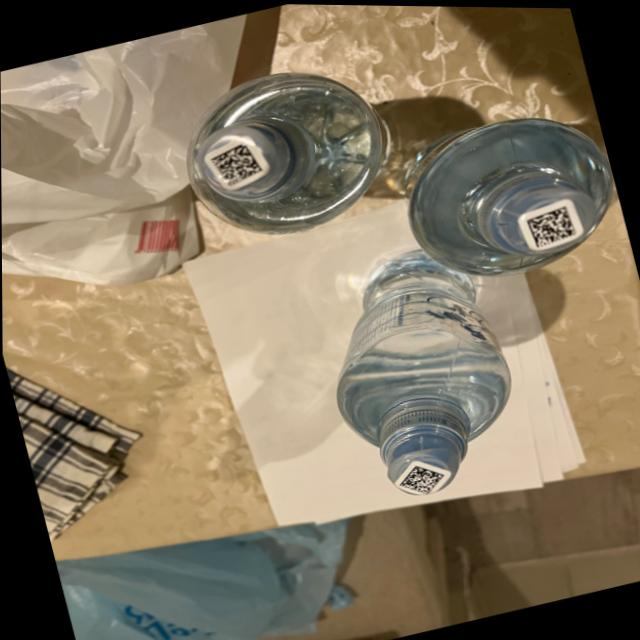datamatrix: (207, 139, 265, 189), (524, 203, 577, 249), (394, 458, 447, 498)
